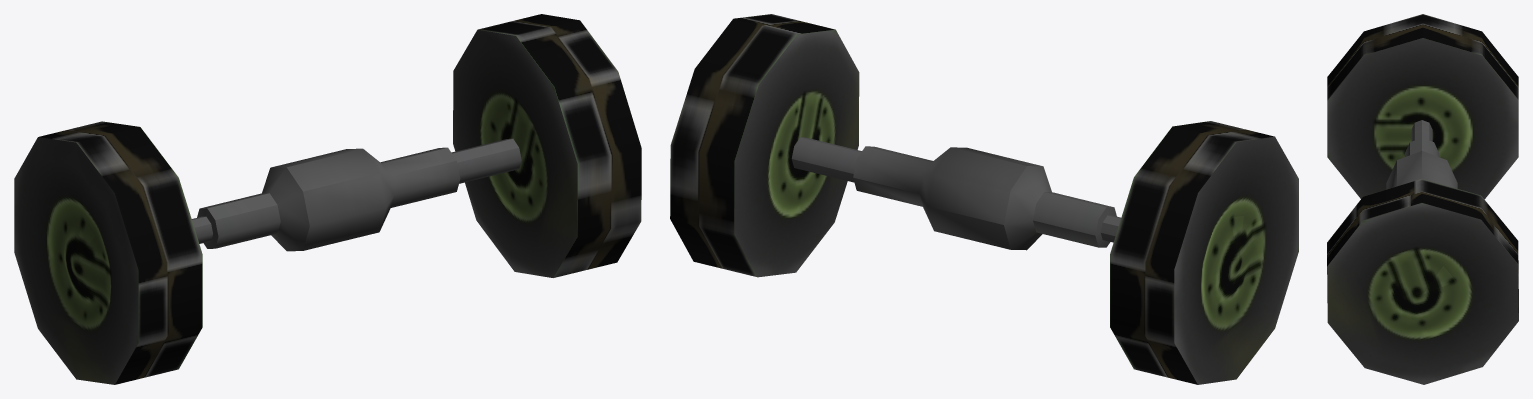
File: taiya01.obj
3 renders of one model, left to right at view 1: azimuth 30°, elevation 25°; view 2: azimuth 150°, elevation 25°; view 3: azimuth 270°, elevation 25°, orthographic. The views are drawn at different scales.
Visible parts, largest first — view 1: taiya01:mesh10; view 2: taiya01:mesh10; view 3: taiya01:mesh10.
Boxes of the visible parts, x1,y1,x2,y2 form: taiya01:mesh10: (14,14,641,384); taiya01:mesh10: (670,14,1298,384); taiya01:mesh10: (1327,14,1518,384).
Size of the model in its own units: 5.72 by 2.55 by 2.43.
Materials: 1 (1 with a texture image).
